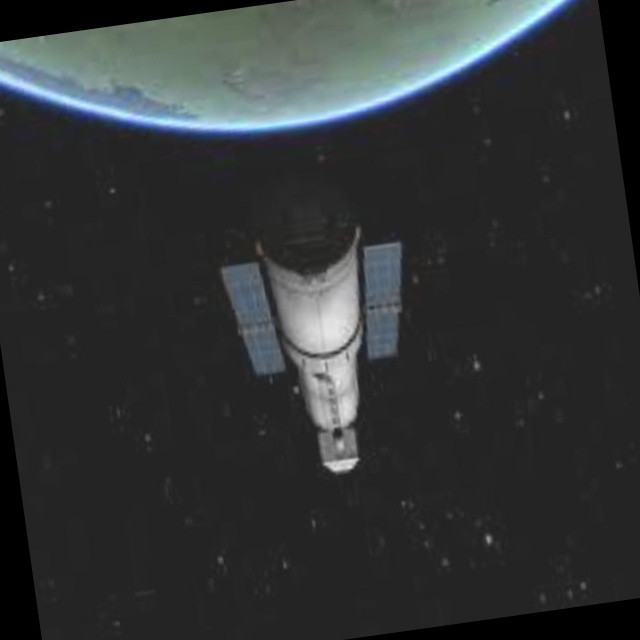medium_debris: (207, 148, 452, 512)
